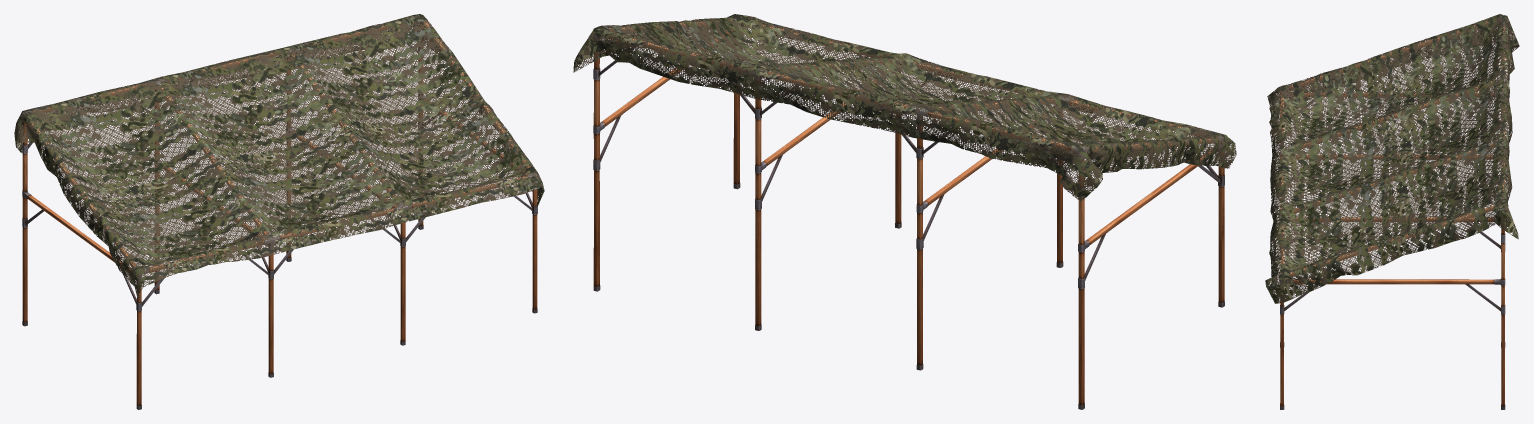
Rendered from Awning02_1.FBX.
The picture shows the model from 3 angles, left to right: view 1: azimuth 30°, elevation 25°; view 2: azimuth 150°, elevation 25°; view 3: azimuth 270°, elevation 25°; orthographic projection. The views are drawn at different scales.
Parts seen in each view (by area): view 1: Awning02_1; view 2: Awning02_1; view 3: Awning02_1.
Boxes of the visible parts, x1,y1,x2,y2 form: Awning02_1: (14,14,544,409); Awning02_1: (573,14,1236,409); Awning02_1: (1265,14,1519,409).
Size of what is drawn, in the model's own units: 12.85 by 6.22 by 6.91.
